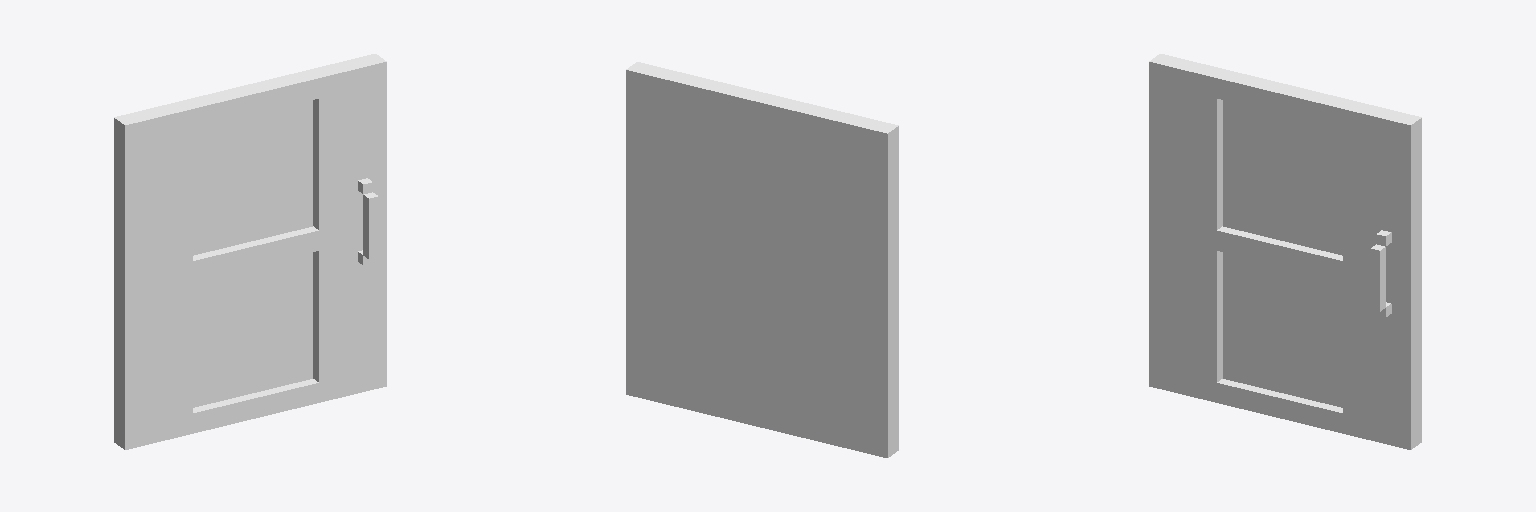
File: doorworkingtable.obj
The picture shows the model from 3 angles: view 1: azimuth 30°, elevation 25°; view 2: azimuth 150°, elevation 25°; view 3: azimuth 330°, elevation 25°; orthographic projection.
Parts seen in each view (by area): view 1: doorworkingtable; view 2: doorworkingtable; view 3: doorworkingtable.
Boxes of the visible parts, <box> form: doorworkingtable: <box>114,54,386,449</box>; doorworkingtable: <box>626,62,898,457</box>; doorworkingtable: <box>1149,54,1421,449</box>.
Size of the model in its own units: 27 by 32 by 4.